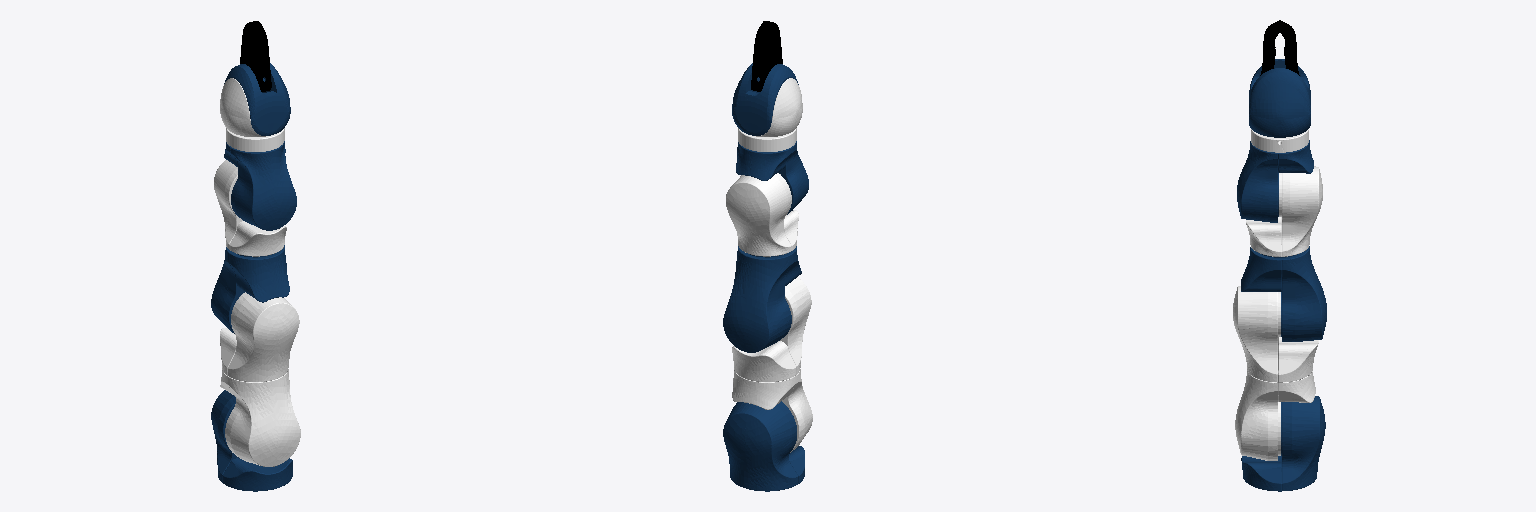
The robot description file, URDF, robot "lio":
<?xml version="1.0" ?>
<!-- =================================================================================== -->
<!-- |    This document was autogenerated by xacro from LIO.urdf.xacro                 | -->
<!-- |    EDITING THIS FILE BY HAND IS NOT RECOMMENDED                                 | -->
<!-- =================================================================================== -->
<robot name="lio">
  <material name="blue">
    <color rgba="0.12549019607843137 0.2784313725490196 0.43529411764705883 1"/>
  </material>
  <material name="black">
    <color rgba="0 0 0 1"/>
  </material>
  <material name="white">
    <color rgba="1 1 1 1"/>
  </material>
 
  <link name="base_footprint">

  </link>
 
  <joint name="lio_joint1" type="revolute">
    <origin rpy="0 0 0" xyz="0 0 0.212"/>
    <!-- <origin xyz="0 0 0.212" rpy="0 0 0" /> -->
    <parent link="base_footprint"/>
    <child link="lio_link12"/>
    <limit effort="150" lower="-2.9670597283903604" upper="2.9670597283903604" velocity="1.658062789394613"/>
    <axis xyz="0 0 1"/>
    <dynamics damping="5.0" friction="5.0"/>
  </joint>
  <!-- <transmission name="${name}_joint1_trans">
      <type>transmission_interface/SimpleTransmission</type>
      <actuator name="${name}_joint1_motor">
      <hardwareInterface>hardware_interface/PositionJointInterface</hardwareInterface>
        <mechanicalReduction>1</mechanicalReduction>
      </actuator>
      <joint name="${name}_joint1">
        <hardwareInterface>hardware_interface/PositionJointInterface</hardwareInterface>
      </joint>
  </transmission> -->
  <link name="lio_link12">
    <inertial>
      <origin rpy="0 0 0" xyz="8.71294630254049E-05 0.0 -0.00113740271757783"/>
      <mass value="3.652"/>
      <inertia ixx="0.06656" ixy="1e-05" ixz="1e-05" iyy="0.0661" iyz="0.00952" izz="0.0076"/>
    </inertial>
    <visual>
      <geometry>
        <mesh filename="package://p_arm_description/meshes/p_rob_2R/link12.STL"/>
      </geometry>
      <material name="blue"/>
    </visual>
    <collision>
      <geometry>
        <mesh filename="package://p_arm_description/meshes/p_rob_2R/link12.STL"/>
      </geometry>
    </collision>
  </link>
  <joint name="lio_joint2" type="revolute">
    <origin xyz="0 0 0.1505"/>
    <parent link="lio_link12"/>
    <child link="lio_link23"/>
    <limit effort="150" lower="-1.9198621771937625" upper="1.9198621771937625" velocity="1.658062789394613"/>
    <axis xyz="0 1 0"/>
    <dynamics damping="10.0" friction="5.0"/>
  </joint>
  <link name="lio_link23">
    <inertial>
      <origin xyz="8.71294630254052E-05 0.000951295697065868 -0.00113740271757783"/>
      <mass value="3.52"/>
      <inertia ixx="0.18406" ixy="2e-05" ixz="-8e-05" iyy="0.18142" iyz="0.01932" izz="0.00841"/>
    </inertial>
    <visual>
      <geometry>
        <mesh filename="package://p_arm_description/meshes/p_rob_2R/link23.STL"/>
      </geometry>
      <material name="white"/>
    </visual>
    <collision>
      <geometry>
        <mesh filename="package://p_arm_description/meshes/p_rob_2R/link23.STL"/>
      </geometry>
    </collision>
  </link>
  <joint name="lio_joint3" type="revolute">
    <origin xyz="0 0 0.29"/>
    <parent link="lio_link23"/>
    <child link="lio_link34"/>
    <limit effort="150" lower="-2.007128639793479" upper="2.007128639793479" velocity="1.658062789394613"/>
    <axis xyz="0 1 0"/>
    <dynamics damping="5.0" friction="5.0"/>
  </joint>
  <link name="lio_link34">
    <inertial>
      <origin rpy="0 0 0" xyz="8.71294630254052E-05 0.0 -0.00113740271757783"/>
      <mass value="1.626"/>
      <inertia ixx="0.02372" ixy="-2e-05" ixz="4e-05" iyy="0.02243" iyz="0.00024" izz="0.0343"/>
    </inertial>
    <visual>
      <geometry>
        <mesh filename="package://p_arm_description/meshes/p_rob_2R/link34.STL"/>
      </geometry>
      <material name="blue"/>
    </visual>
    <collision>
      <geometry>
        <mesh filename="package://p_arm_description/meshes/p_rob_2R/link34.STL"/>
      </geometry>
    </collision>
  </link>
  <joint name="lio_joint4" type="revolute">
    <origin xyz="0 0 0.1645"/>
    <parent link="lio_link34"/>
    <child link="lio_link45"/>
    <limit effort="55" lower="-2.9670597283903604" upper="2.9670597283903604" velocity="1.658062789394613"/>
    <axis xyz="0 0 1"/>
    <dynamics damping="5.0" friction="5.0"/>
  </joint>
  <link name="lio_link45">
    <inertial>
      <origin rpy="0 0 0" xyz="8.71294630254052E-05 0.0 -0.00113740271757783"/>
      <mass value="1.516"/>
      <inertia ixx="0.02488" ixy="2e-05" ixz="3e-05" iyy="0.02409" iyz="0.00398" izz="0.00272"/>
    </inertial>
    <visual>
      <geometry>
        <mesh filename="package://p_arm_description/meshes/p_rob_2R/link45.STL"/>
      </geometry>
      <material name="white"/>
    </visual>
    <collision>
      <geometry>
        <mesh filename="package://p_arm_description/meshes/p_rob_2R/link45.STL"/>
      </geometry>
    </collision>
  </link>
  <joint name="lio_joint5" type="revolute">
    <origin xyz="0 0 0.1455"/>
    <parent link="lio_link45"/>
    <child link="lio_link56"/>
    <limit effort="55" lower="-2.007128639793479" upper="2.007128639793479" velocity="1.658062789394613"/>
    <axis xyz="0 1 0"/>
    <dynamics damping="5.0" friction="5.0"/>
  </joint>
  <link name="lio_link56">
    <inertial>
      <origin xyz="-8.71294630254049E-05 0.0 0.00113740271757783"/>
      <mass value="1.417"/>
      <inertia ixx="0.01351" ixy="-2e-05" ixz="-3e-05" iyy="0.01261" iyz="-0.00012" izz="0.00274"/>
    </inertial>
    <visual>
      <geometry>
        <mesh filename="package://p_arm_description/meshes/p_rob_2R/link56.STL"/>
      </geometry>
      <material name="blue"/>
    </visual>
    <collision>
      <geometry>
        <mesh filename="package://p_arm_description/meshes/p_rob_2R/link56.STL"/>
      </geometry>
    </collision>
  </link>
  <joint name="lio_joint6" type="revolute">
    <origin xyz="0 0 0.129"/>
    <parent link="lio_link56"/>
    <child link="lio_link6G"/>
    <limit effort="30" lower="-2.9670597283903604" upper="2.9670597283903604" velocity="1.658062789394613"/>
    <axis xyz="0 0 1"/>
    <dynamics damping="5.0" friction="5.0"/>
  </joint>
  <link name="lio_link6G">
    <inertial>
      <origin xyz="-0.00113740271757783 0.0 8.7129463025477E-05"/>
      <mass value="0.435"/>
      <inertia ixx="0.00079" ixy="0.0" ixz="0.0" iyy="0.00086" iyz="-1e-05" izz="0.00084"/>
    </inertial>
    <visual>
      <geometry>
        <mesh filename="package://p_arm_description/meshes/p_rob_2R/link6G.STL"/>
      </geometry>
      <material name="white"/>
    </visual>
    <collision>
      <geometry>
        <mesh filename="package://p_arm_description/meshes/p_rob_2R/link6G.STL"/>
      </geometry>
    </collision>
  </link>
  <joint name="lio_gripper_interface_joint" type="fixed">
    <origin xyz="0 0 0.046"/>
    <parent link="lio_link6G"/>
    <child link="lio_gripper_interface_link"/>
  </joint>
  <link name="lio_gripper_interface_link">
    <inertial>
      <!-- the inertia values are guessed-->
      <origin xyz="0 0 0"/>
      <mass value="0.1"/>
      <inertia ixx="0.0001" ixy="0.9" ixz="0.0" iyy="0.0001" iyz="0.0" izz="0.0001"/>
    </inertial>
  </link>

  <joint name="lio_back_cover_joint" type="fixed">
    <parent link="lio_gripper_interface_link"/>
    <child link="lio_back_cover"/>
  </joint>
  <link name="lio_back_cover">
    <inertial>
      <origin xyz="2.24196111270369E-06 -0.00408460946644196 -0.0510660065280277"/>
      <mass value="0.82454352978473"/>
      <inertia ixx="0.00151927417232363" ixy="-3.02654547820246E-07" ixz="-4.4543064624827E-08" iyy="0.00163894166884312" iyz="-2.0883019834409E-05" izz="0.00153211830480003"/>
    </inertial>
    <visual>
      <geometry>
        <mesh filename="package://p_grip_description/meshes/p_grip_2F/back_cover.STL"/>
      </geometry>
      <material name="white"/>
    </visual>
    <collision>
      <geometry>
        <mesh filename="package://p_grip_description/meshes/p_grip_2F/back_cover.STL"/>
      </geometry>
    </collision>
  </link>
  <!-- Main body of the gripper. -->
  <joint name="lio_p_grip_connector" type="fixed">
    <origin rpy="0 -1.57 3.14" xyz="-0.052 0 0.052"/>
    <parent link="lio_gripper_interface_link"/>
    <child link="lio_gripper_link"/>
  </joint>
  <link name="lio_gripper_link">
    <inertial>
      <origin xyz="2.24196111270369E-06 -0.00408460946644196 -0.0510660065280277"/>
      <mass value="0.82454352978473"/>
      <inertia ixx="0.00151927417232363" ixy="-3.02654547820246E-07" ixz="-4.4543064624827E-08" iyy="0.00163894166884312" iyz="-2.0883019834409E-05" izz="0.00153211830480003"/>
    </inertial>
    <visual>
      <geometry>
        <mesh filename="package://p_grip_description/meshes/p_grip_2F/p_grip.STL"/>
      </geometry>
      <material name="blue"/>
    </visual>
    <collision>
      <geometry>
        <mesh filename="package://p_grip_description/meshes/p_grip_2F/p_grip.STL"/>
      </geometry>
    </collision>
  </link>
  <!-- The left finger can be actuated via ROS. -->
  <joint name="lio_gripper_joint" type="revolute">
    <origin rpy="0 0 0" xyz="0.0645 0 0.052"/>
    <parent link="lio_gripper_link"/>
    <child link="lio_left_finger"/>
    <limit effort="50" lower="0.0" upper="0.5235987755982988" velocity="1.0471975511965976"/>
    <axis xyz="0 0 1"/>
  </joint>
  <link name="lio_left_finger">
    <inertial>
      <!-- the inertia values are guessed-->
      <origin xyz="0 0 0"/>
      <mass value="0.1"/>
      <inertia ixx="0.0001" ixy="0.9" ixz="0.0" iyy="0.0001" iyz="0.0" izz="0.0001"/>
    </inertial>
    <visual>
      <origin rpy="0 0 0"/>
      <geometry>
        <mesh filename="package://p_grip_description/meshes/p_grip_2F/finger.STL"/>
      </geometry>
      <material name="black"/>
    </visual>
    <collision>
      <origin rpy="0 0 0"/>
      <geometry>
        <mesh filename="package://p_grip_description/meshes/p_grip_2F/finger.STL"/>
      </geometry>
    </collision>
  </link>
  <!-- The right finger simply mirrors the left one. -->
  <joint name="lio_passive_gripper_joint" type="revolute">
    <mimic joint="lio_gripper_joint" multiplier="-1" offset="0"/>
    <origin rpy="0 0 0" xyz="0.0645 0 0.052"/>
    <parent link="lio_gripper_link"/>
    <child link="lio_right_finger"/>
    <limit effort="1000.0" lower="-0.5235987755982988" upper="0.0" velocity="170"/>
    <axis xyz="0 0 1"/>
  </joint>
  <link name="lio_right_finger">
    <inertial>
      <!-- the inertia values are guessed-->
      <origin xyz="0 0 0"/>
      <mass value="0.1"/>
      <inertia ixx="0.0001" ixy="0.9" ixz="0.0" iyy="0.0001" iyz="0.0" izz="0.0001"/>
    </inertial>
    <visual>
      <origin rpy="3.141592653589793 0 0"/>
      <geometry>
        <mesh filename="package://p_grip_description/meshes/p_grip_2F/finger.STL"/>
      </geometry>
      <material name="black"/>
    </visual>
    <collision>
      <origin rpy="3.141592653589793 0 0"/>
      <geometry>
        <mesh filename="package://p_grip_description/meshes/p_grip_2F/finger.STL"/>
      </geometry>
    </collision>
  </link>
  <!-- The tool center point is used for kinematics and path planning. -->
  <joint name="lio_tcp_joint" type="fixed">
    <origin rpy="0 0 0" xyz="0.189 0 0.052"/>
    <parent link="lio_gripper_link"/>
    <child link="lio_tcp_link"/>
  </joint>
  <link name="lio_tcp_link">
    <inertial>
      <!-- the inertia values are guessed-->
      <origin xyz="0 0 0"/>
      <mass value="0.1"/>
      <inertia ixx="0.0001" ixy="0.9" ixz="0.0" iyy="0.0001" iyz="0.0" izz="0.0001"/>
    </inertial>
  </link>
  <joint name="lio_tis_cam_joint" type="fixed">
    <origin rpy="-1.5707963267948966 0.0 -1.5707963267948966" xyz="-0.095 0.0 0.053"/>
    <parent link="lio_tcp_link"/>
    <child link="tis_cam"/>
  </joint>
  <link name="tis_cam">
    <inertial>
      <!-- the inertia values are guessed but needed for gazebo -->
      <origin xyz="0 0 0"/>
      <mass value="0.001"/>
      <inertia ixx="0.0001" ixy="0.9" ixz="0.0" iyy="0.0001" iyz="0.0" izz="0.0001"/>
    </inertial>
  </link>
  <!-- we need this joint and link for the camera plugin in gazebo the x is taken for camera direction -->
  <joint name="lio_tis_cam_sim_plugin_joint" type="fixed">
    <origin rpy="0 -1.5707963267948966 0" xyz="0.0 0.0 0.0"/>
    <parent link="tis_cam"/>
    <child link="tis_cam_sim_plugin"/>
  </joint>
  <link name="tis_cam_sim_plugin">
    <inertial>
      <!-- the inertia values are guessed but needed for gazebo -->
      <origin xyz="0 0 0"/>
      <mass value="0.001"/>
      <inertia ixx="0.0001" ixy="0.9" ixz="0.0" iyy="0.0001" iyz="0.0" izz="0.0001"/>
    </inertial>
  </link>
</robot>

--- Facts derived from the render (not from the file) ---
The picture shows the robot from 3 angles, left to right: view 1: azimuth 30°, elevation 25°; view 2: azimuth 150°, elevation 25°; view 3: azimuth 270°, elevation 25°; orthographic projection.
Model lio with 15 links and 14 joints (8 revolute, 6 fixed), rooted at base_footprint, posed all joints at 0.
Visible links, largest first — view 1: lio_link23, lio_link56, lio_link34, lio_link12, lio_link45, lio_gripper_link, lio_back_cover, lio_left_finger, lio_link6G; view 2: lio_link12, lio_link23, lio_link34, lio_link45, lio_gripper_link, lio_link56, lio_back_cover, lio_right_finger, lio_link6G; view 3: lio_link23, lio_link34, lio_link12, lio_link45, lio_gripper_link, lio_link56, lio_link6G, lio_left_finger, lio_right_finger.
Boxes of the visible links, x1,y1,x2,y2 form: lio_link23: (220, 292, 300, 466); lio_link56: (224, 141, 296, 230); lio_link34: (211, 245, 289, 333); lio_link12: (211, 390, 292, 491); lio_link45: (214, 160, 286, 256); lio_gripper_link: (224, 63, 290, 135); lio_back_cover: (220, 78, 265, 136); lio_left_finger: (251, 21, 271, 91); lio_link6G: (226, 128, 284, 151); lio_link12: (723, 401, 804, 491); lio_link23: (732, 277, 812, 452); lio_link34: (723, 246, 801, 352); lio_link45: (726, 173, 798, 256); lio_gripper_link: (732, 63, 798, 135); lio_link56: (736, 141, 808, 214); lio_back_cover: (756, 78, 802, 136); lio_right_finger: (751, 21, 770, 91); lio_link6G: (738, 128, 796, 151); lio_link23: (1233, 286, 1318, 460); lio_link34: (1241, 246, 1326, 341); lio_link12: (1241, 396, 1325, 491); lio_link45: (1246, 166, 1322, 256); lio_gripper_link: (1249, 59, 1310, 137); lio_link56: (1237, 140, 1313, 222); lio_link6G: (1251, 129, 1308, 152); lio_left_finger: (1260, 20, 1279, 75); lio_right_finger: (1280, 20, 1299, 75).
Size in the robot's own frame: 0.175 by 0.2219 by 1.18 metres.
10 mesh visuals loaded from 9 distinct referenced files (9 binary STL).
